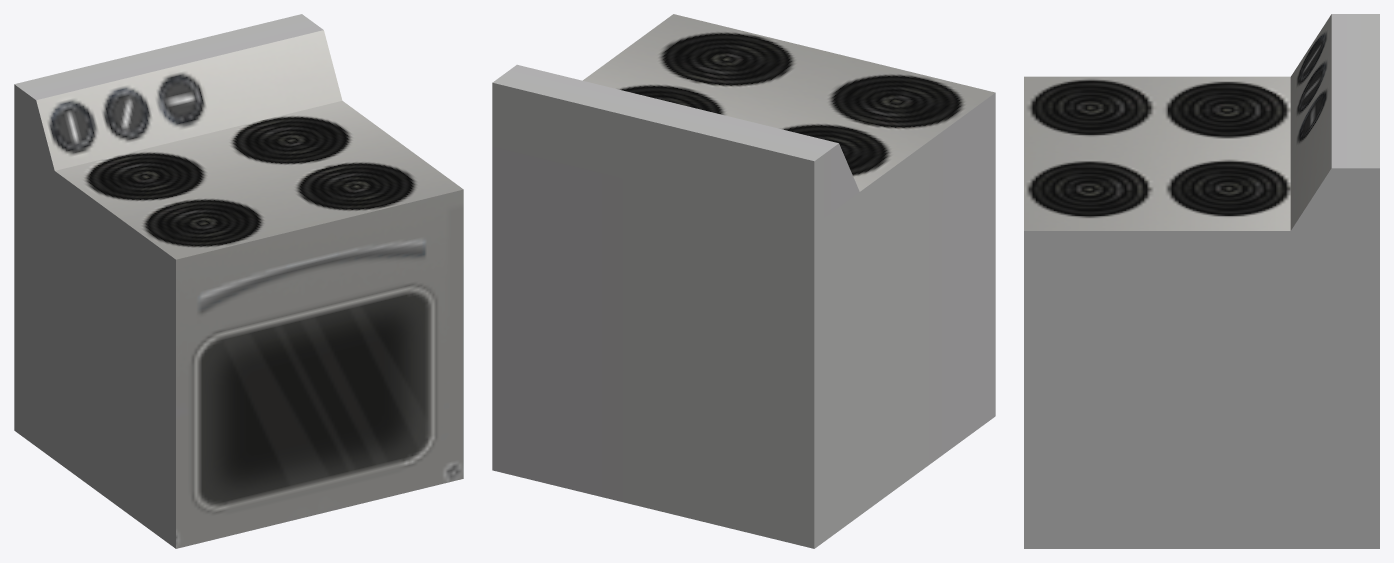
Rendered from Stove.fbx.
The picture shows the model from 3 angles, left to right: view 1: azimuth 30°, elevation 25°; view 2: azimuth 150°, elevation 25°; view 3: azimuth 270°, elevation 25°; orthographic projection. The views are drawn at different scales.
Visible parts, largest first — view 1: Maya_File_Assets:TexturedAssetsCurrent:Stove_Oven; view 2: Maya_File_Assets:TexturedAssetsCurrent:Stove_Oven; view 3: Maya_File_Assets:TexturedAssetsCurrent:Stove_Oven.
Boxes of the visible parts, x1,y1,x2,y2 form: Maya_File_Assets:TexturedAssetsCurrent:Stove_Oven: (14,14,463,548); Maya_File_Assets:TexturedAssetsCurrent:Stove_Oven: (492,14,995,548); Maya_File_Assets:TexturedAssetsCurrent:Stove_Oven: (1024,14,1379,548).
Size of the model in its own units: 1.14 by 1.31 by 1.11.
